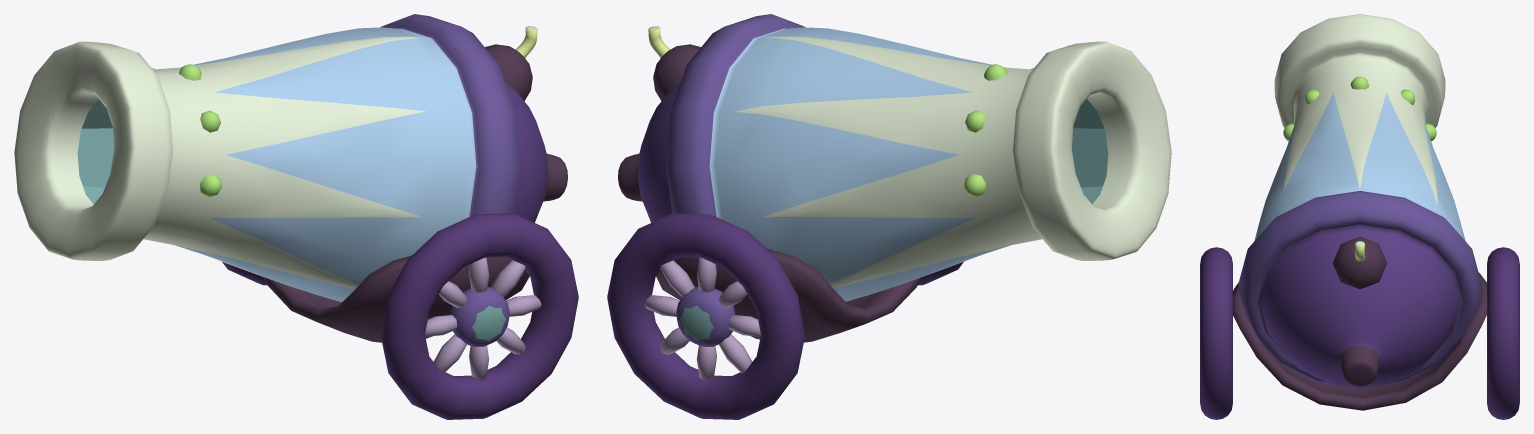
Rendered from Cannon_Bad.fbx.
The picture shows the model from 3 angles, left to right: view 1: azimuth 30°, elevation 25°; view 2: azimuth 150°, elevation 25°; view 3: azimuth 270°, elevation 25°; orthographic projection. The views are drawn at different scales.
Parts seen in each view (by area): view 1: Cannon_Bad; view 2: Cannon_Bad; view 3: Cannon_Bad.
Boxes of the visible parts, x1=… form: Cannon_Bad: x1=14, y1=14, x2=578, y2=419; Cannon_Bad: x1=607, y1=14, x2=1171, y2=419; Cannon_Bad: x1=1200, y1=14, x2=1519, y2=419.
Size of the model in its own units: 365 by 251 by 252.
1 material, 1 textured.
